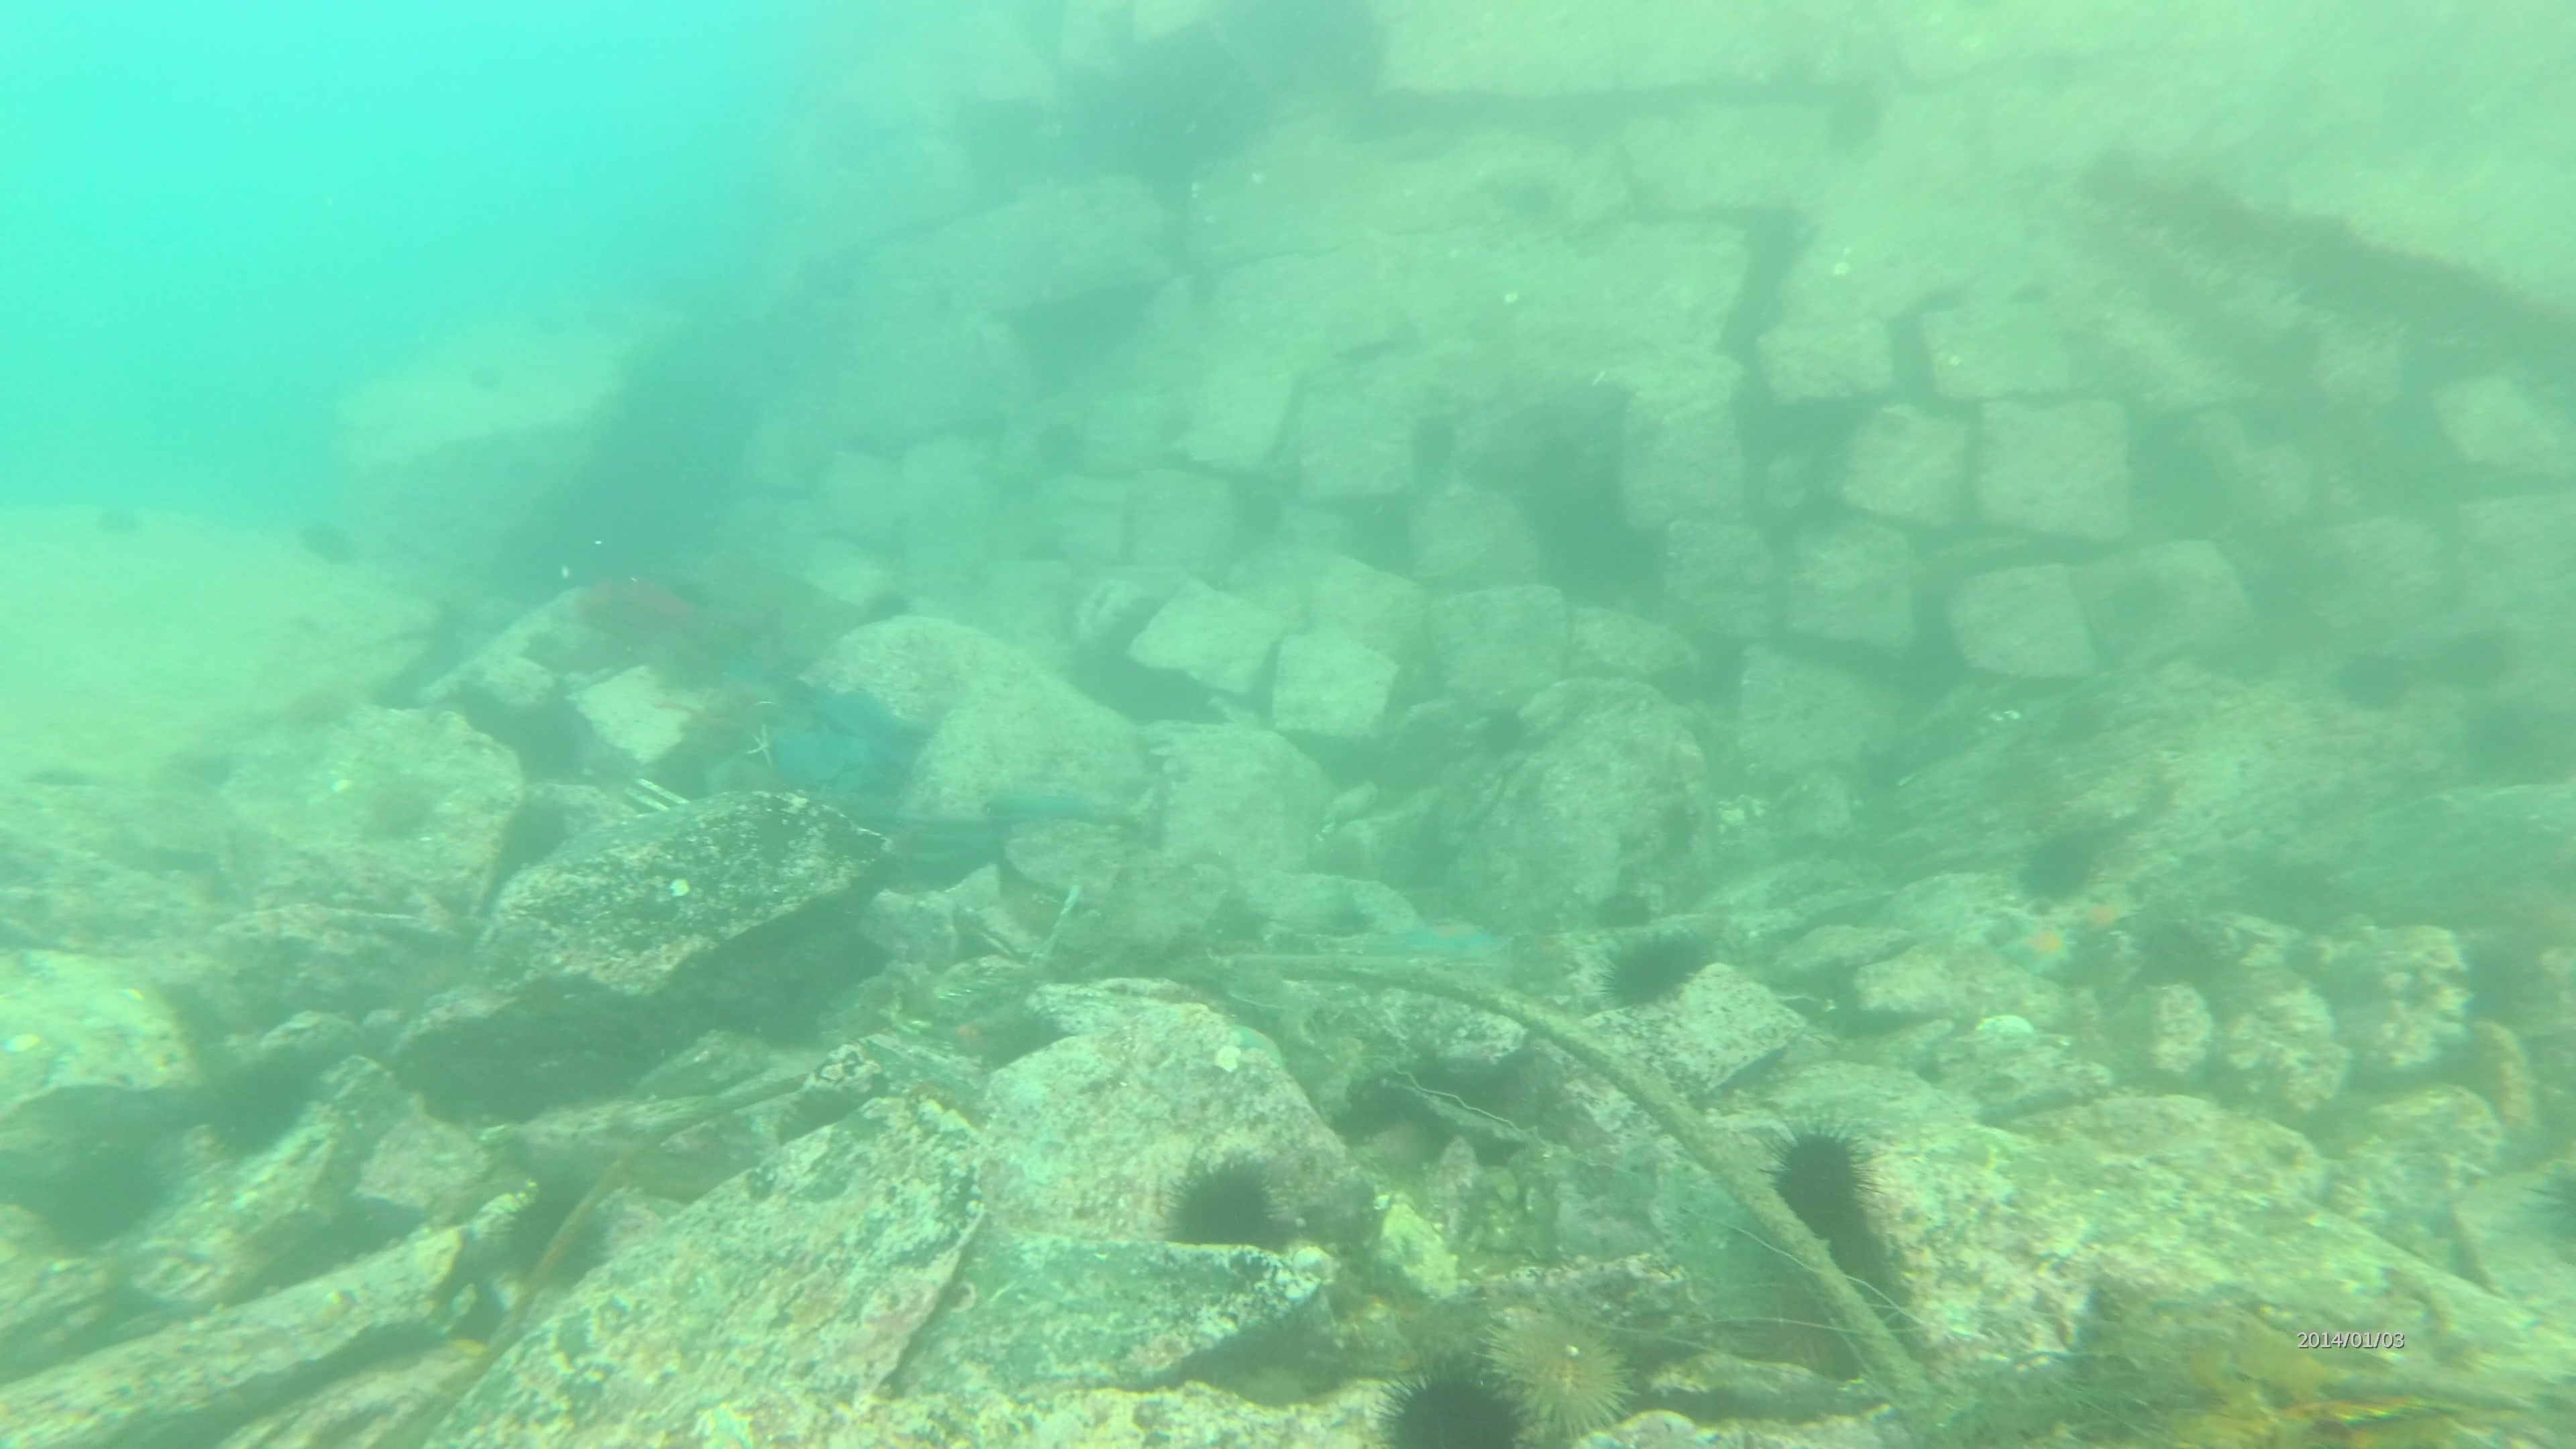echinus: (1479, 1300, 1644, 1442), (495, 1169, 621, 1297), (1760, 1116, 1882, 1244), (1159, 1150, 1292, 1261), (1371, 1355, 1534, 1445), (200, 1047, 322, 1162), (1596, 922, 1716, 1017), (2452, 692, 2558, 793), (2125, 908, 2229, 996), (2012, 819, 2109, 909), (490, 787, 580, 878), (352, 766, 448, 849), (2433, 616, 2523, 697), (2328, 640, 2419, 720), (1813, 73, 1893, 163), (1483, 159, 1569, 230), (1401, 403, 1467, 483), (165, 736, 242, 800), (294, 508, 363, 573)
starfish: (978, 768, 1131, 833), (1382, 906, 1516, 973), (1987, 906, 2089, 987), (2063, 885, 2141, 954)
